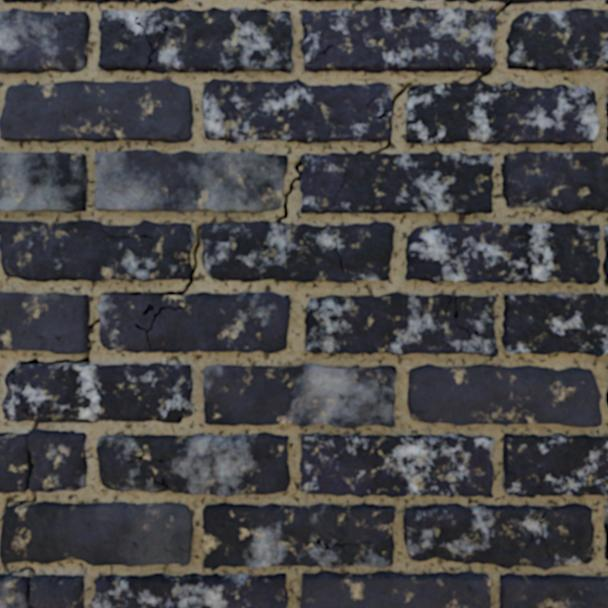brick: (98, 7, 292, 73), (301, 7, 495, 72), (203, 503, 394, 569), (300, 433, 493, 497), (404, 504, 593, 569), (406, 80, 597, 144), (300, 151, 492, 214), (0, 502, 192, 565), (97, 432, 289, 495), (305, 293, 497, 356), (204, 364, 395, 427), (203, 79, 390, 143), (0, 80, 192, 142), (405, 222, 600, 283), (95, 150, 286, 212), (0, 220, 193, 281), (408, 365, 600, 426), (98, 292, 290, 352), (201, 222, 393, 282), (300, 571, 490, 607), (92, 573, 286, 607), (502, 293, 607, 355), (502, 151, 607, 213), (503, 434, 607, 496), (506, 9, 607, 71), (0, 9, 89, 73), (0, 293, 89, 353), (0, 152, 87, 212), (500, 574, 607, 607), (4, 0, 177, 2), (603, 226, 607, 282), (604, 505, 607, 558), (387, 110, 392, 115)
broken_brick: (0, 362, 193, 423), (0, 428, 87, 493), (31, 573, 84, 607), (0, 573, 27, 607), (512, 0, 586, 4), (442, 0, 508, 3), (410, 0, 427, 1)
crack: (10, 317, 100, 392), (243, 158, 303, 224), (153, 224, 202, 295), (2, 448, 37, 519), (374, 80, 416, 133), (434, 294, 481, 340), (1, 562, 36, 607), (96, 291, 144, 306), (304, 44, 333, 67), (353, 139, 391, 155), (25, 407, 39, 431), (494, 0, 513, 17), (303, 25, 324, 39), (473, 67, 493, 81), (211, 219, 234, 225), (371, 368, 377, 379), (390, 366, 397, 373), (441, 80, 450, 84), (493, 41, 495, 49)
